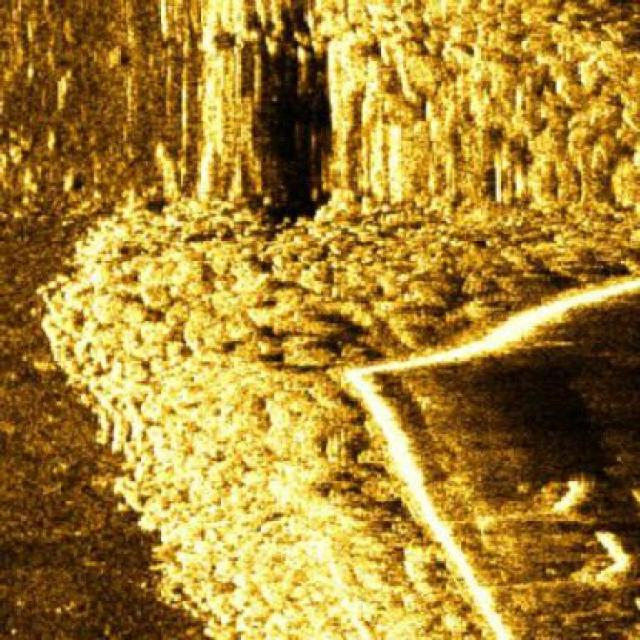bedrock group: (38, 0, 638, 638)
